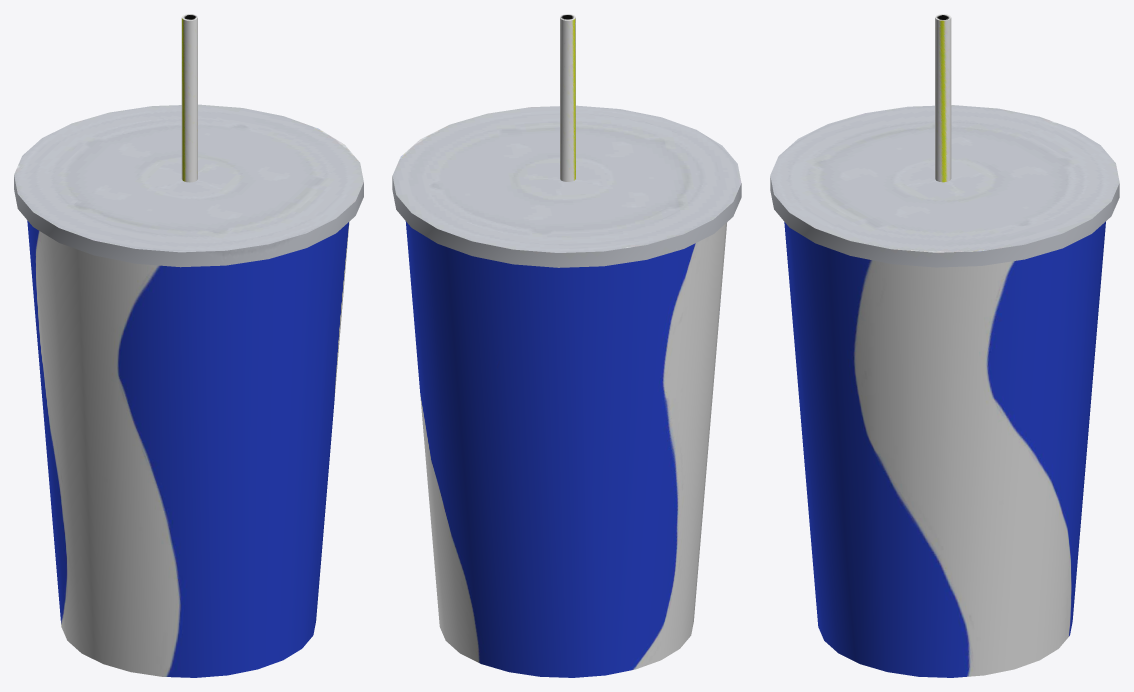
File: cup.fbx
The picture shows the model from 3 angles, left to right: view 1: azimuth 30°, elevation 25°; view 2: azimuth 150°, elevation 25°; view 3: azimuth 270°, elevation 25°; orthographic projection.
Parts seen in each view (by area): view 1: headusOBJexport; view 2: headusOBJexport; view 3: headusOBJexport.
Boxes of the visible parts, bbox=[...] form: headusOBJexport: bbox=[14, 14, 363, 677]; headusOBJexport: bbox=[392, 14, 741, 677]; headusOBJexport: bbox=[770, 14, 1119, 677].
Bounding box in the file's own units: 0.214 × 0.41 × 0.214.
1 material, 1 textured.
